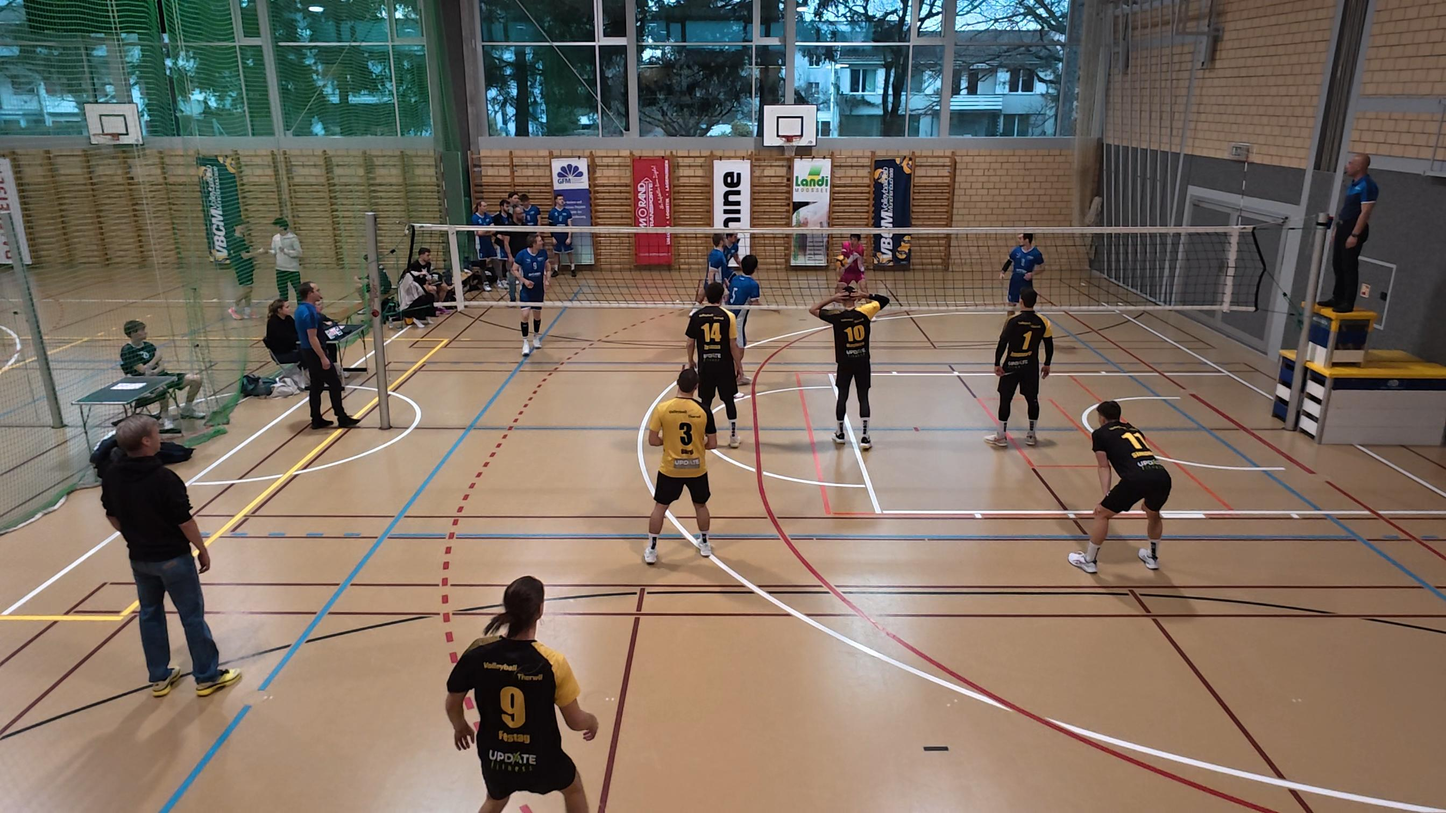Player: (447, 576, 599, 813), (1069, 401, 1172, 573), (643, 366, 715, 565), (811, 287, 891, 450), (987, 288, 1055, 447), (682, 282, 743, 449), (511, 234, 551, 358), (726, 254, 764, 350), (1001, 232, 1044, 308), (703, 232, 739, 304)
Receive: (835, 227, 871, 298)
ball: (831, 249, 848, 266)
